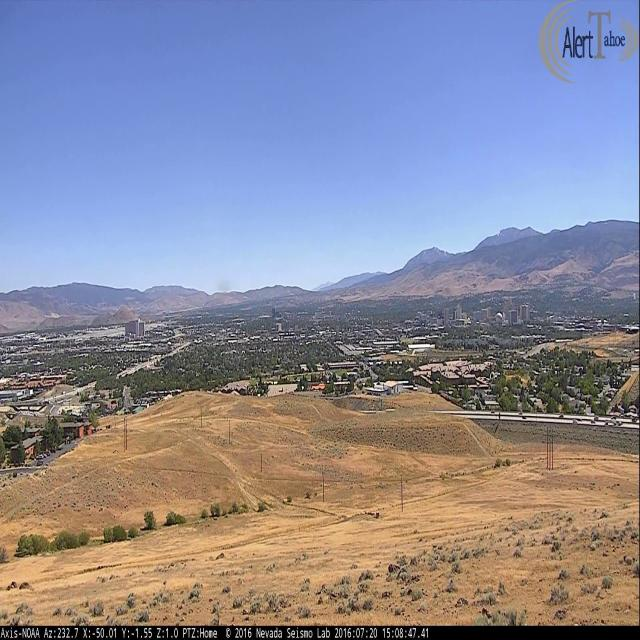smoke: (259, 283, 296, 299)
